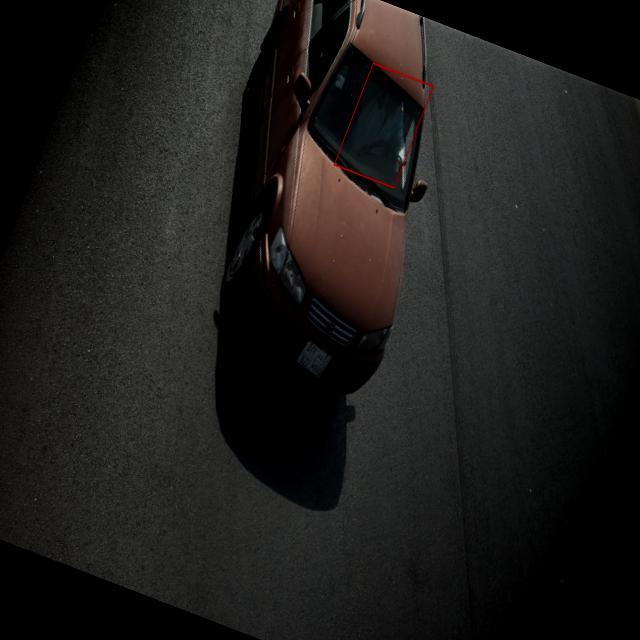windshield: (302, 39, 426, 215)
